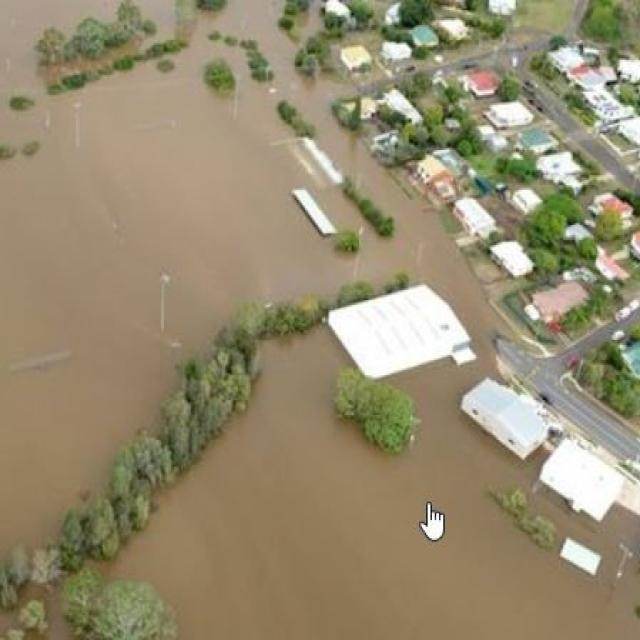flooded_areas: (0, 2, 563, 638)
